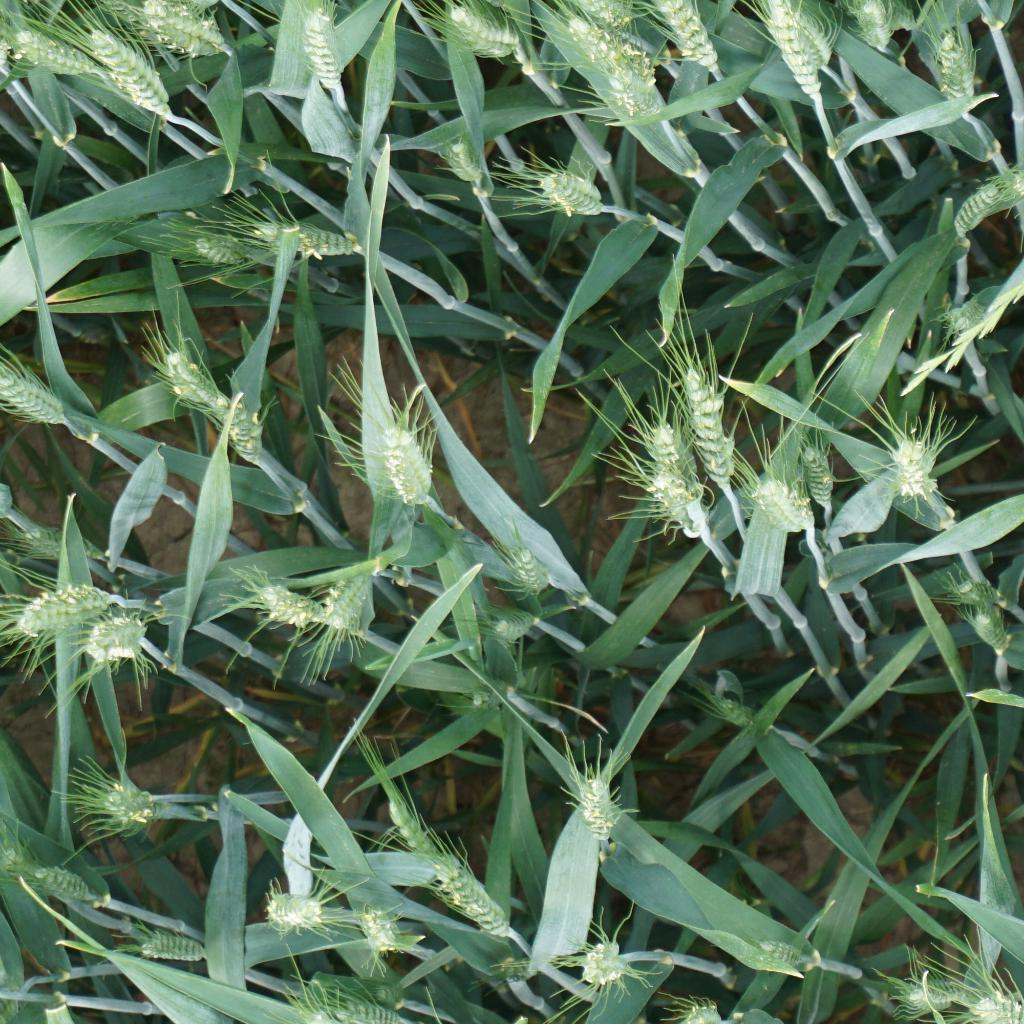0-0: (626, 396, 715, 542), (673, 349, 755, 507), (78, 25, 194, 120), (371, 417, 456, 537), (569, 19, 670, 118), (422, 846, 521, 944), (438, 1, 548, 82), (742, 0, 826, 102), (0, 350, 90, 445), (0, 569, 111, 643), (285, 0, 355, 111), (647, 0, 734, 87), (252, 203, 364, 270), (881, 415, 953, 512), (364, 788, 450, 867), (69, 764, 161, 837), (248, 876, 342, 947), (757, 460, 828, 553), (176, 217, 280, 280), (126, 0, 233, 61), (12, 849, 105, 913), (572, 761, 635, 854), (203, 393, 292, 456), (929, 27, 989, 120), (3, 20, 94, 81), (152, 331, 218, 414), (947, 172, 1022, 245), (311, 564, 380, 643), (529, 153, 612, 218), (563, 923, 633, 995), (238, 573, 319, 635), (891, 957, 965, 1024), (128, 916, 218, 971), (796, 435, 857, 515), (753, 929, 825, 996), (79, 614, 162, 668), (16, 513, 96, 569), (358, 902, 418, 975), (495, 534, 559, 602), (954, 575, 1014, 647), (846, 1, 913, 63), (698, 683, 775, 736), (936, 290, 992, 345), (475, 607, 553, 645), (329, 990, 414, 1024), (440, 134, 487, 193), (463, 676, 513, 721), (482, 952, 541, 989)
